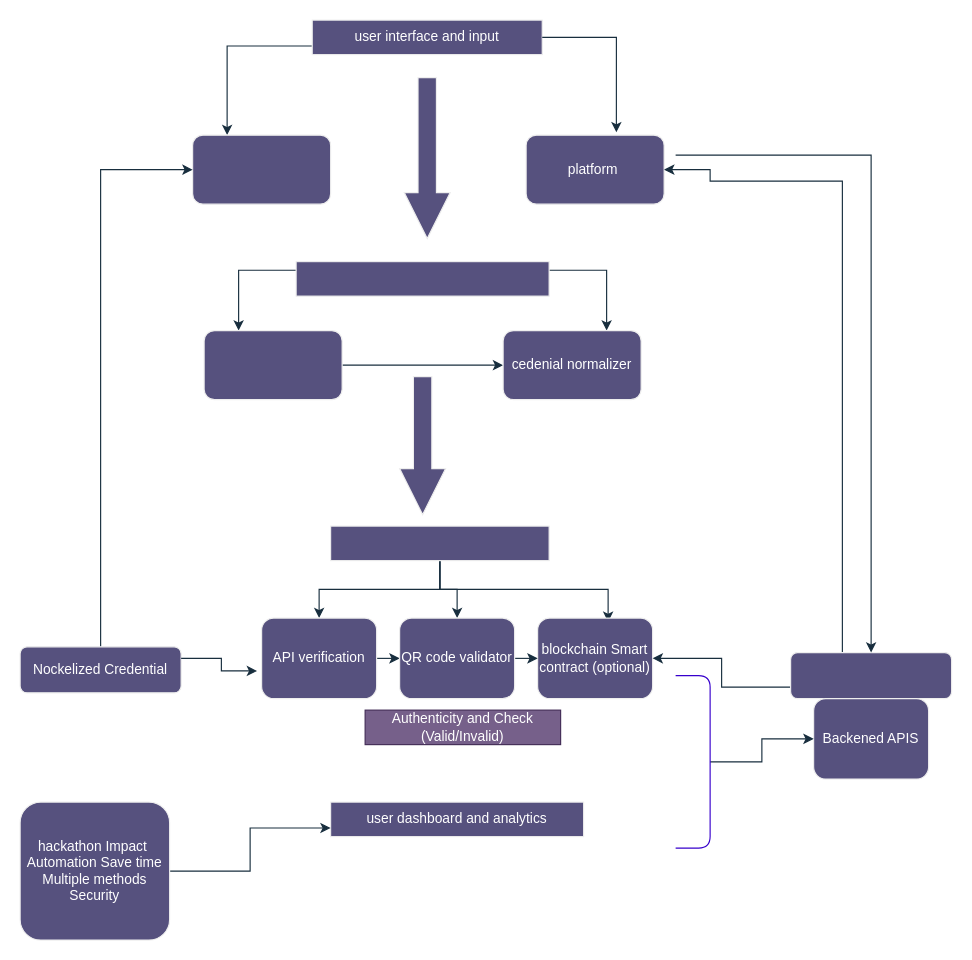
Some shapes in this 972 by 960 pixel diagram are drawn without their labels. Here are the shapes that lost their labels. From the top down, the box of each, then its label:
(191, 134, 331, 204): upload certificate (PDF/Image)
(295, 260, 549, 296): Aggregation and normalization Layer
(203, 329, 342, 400): certificate parser
(329, 525, 549, 561): verification engine
(789, 651, 952, 699): backend and security
